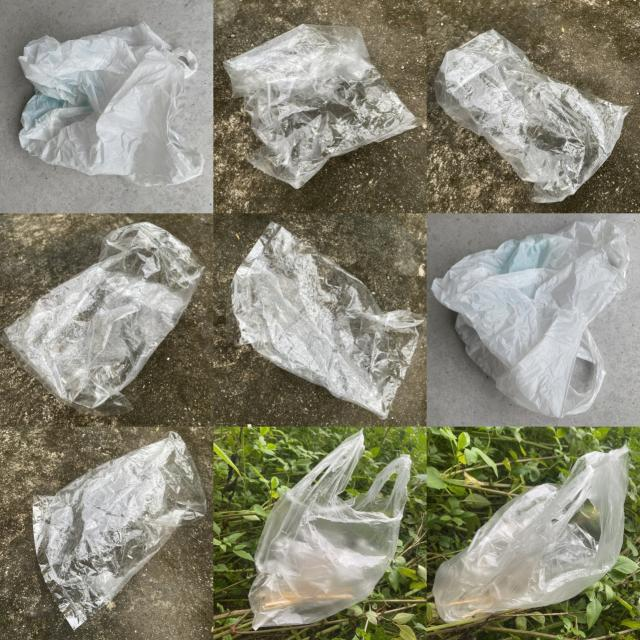Single-layer Plastic: (1, 222, 204, 415), (431, 220, 629, 417), (231, 222, 424, 419), (432, 446, 629, 621), (34, 431, 206, 629), (435, 30, 631, 202), (224, 24, 424, 189), (249, 431, 410, 629), (19, 22, 204, 186)
